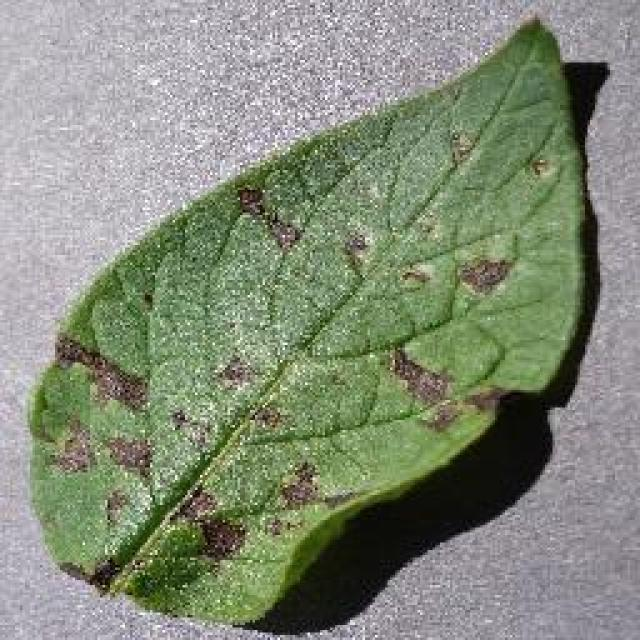Potato: (22, 12, 600, 628)
